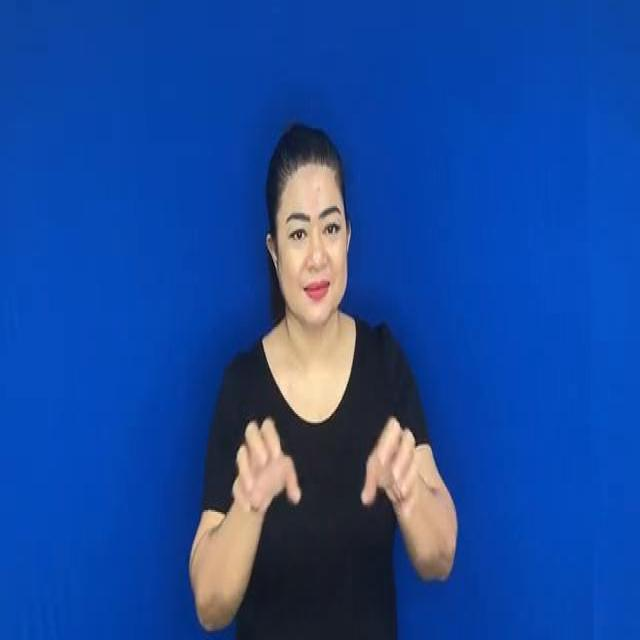egg: (208, 378, 426, 554)
